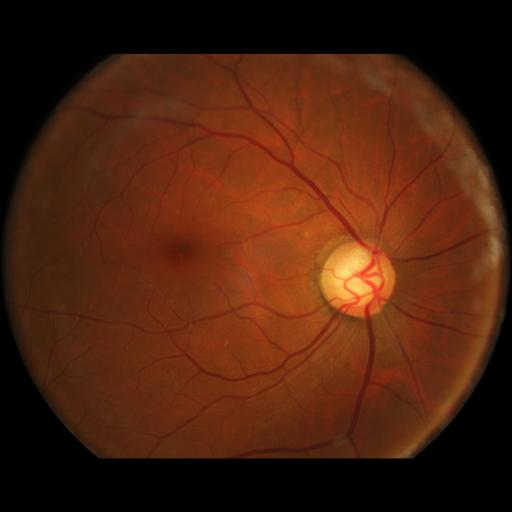Optic Cup: (337, 253, 379, 299)
Optic Disc: (319, 240, 396, 318)
